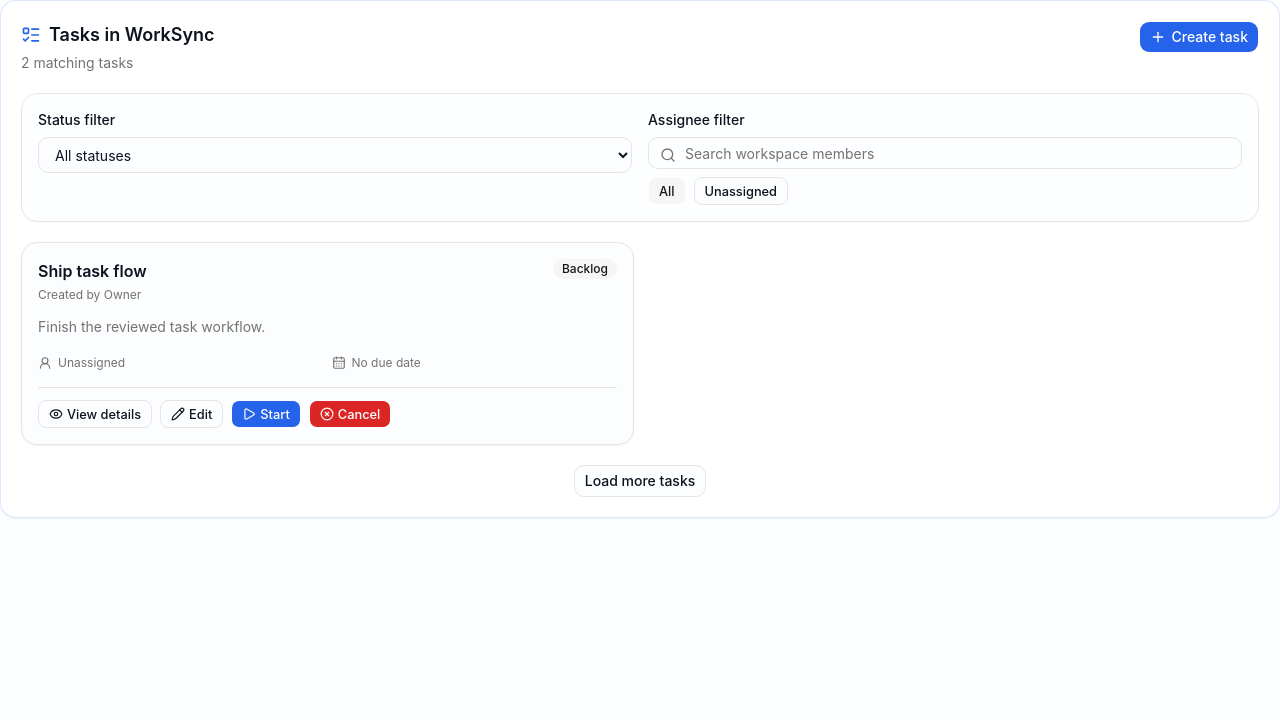
Test: TaskSection › clears the load-more pending state when a filter reload aborts it
This screenshot has width=1280, height=720.
Click the button "Load more tasks": (640, 481) [574,465,706,497]
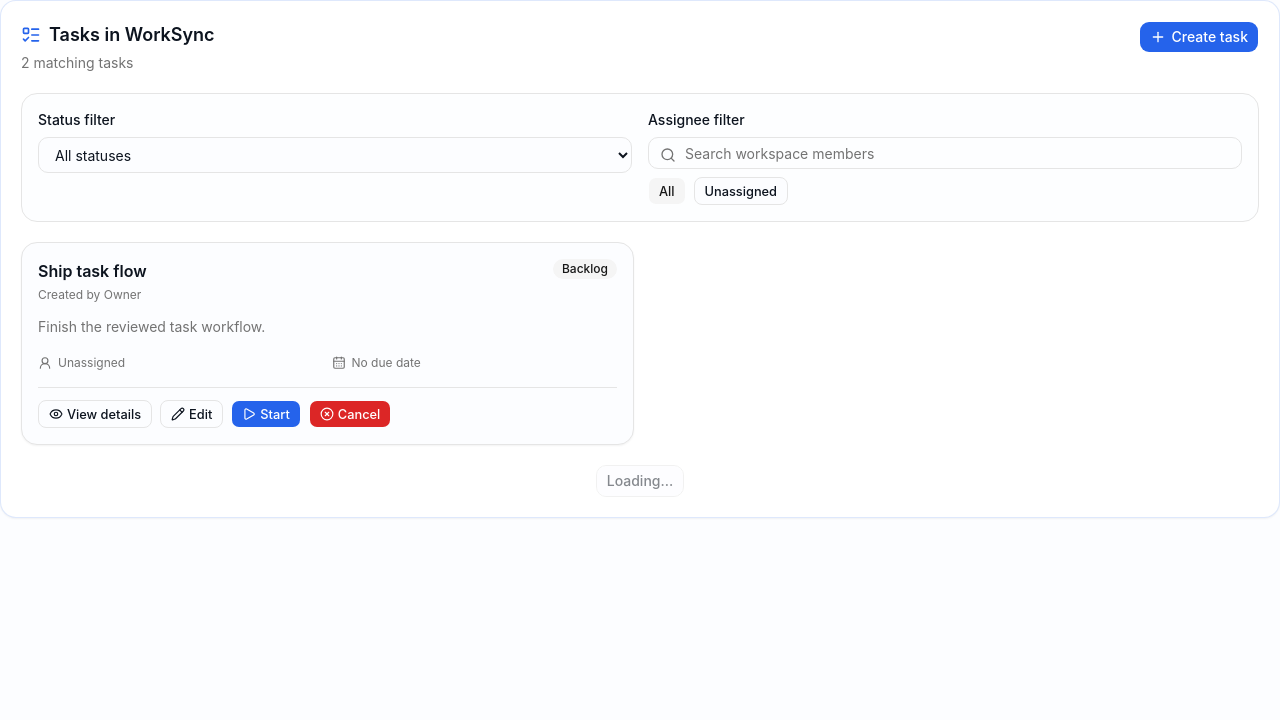
Check: the button "Loading..." is disabled, box [596,465,684,497]
Select "In progress" in the dropdown labelled "Status filter": (335, 155) [38,137,632,173]
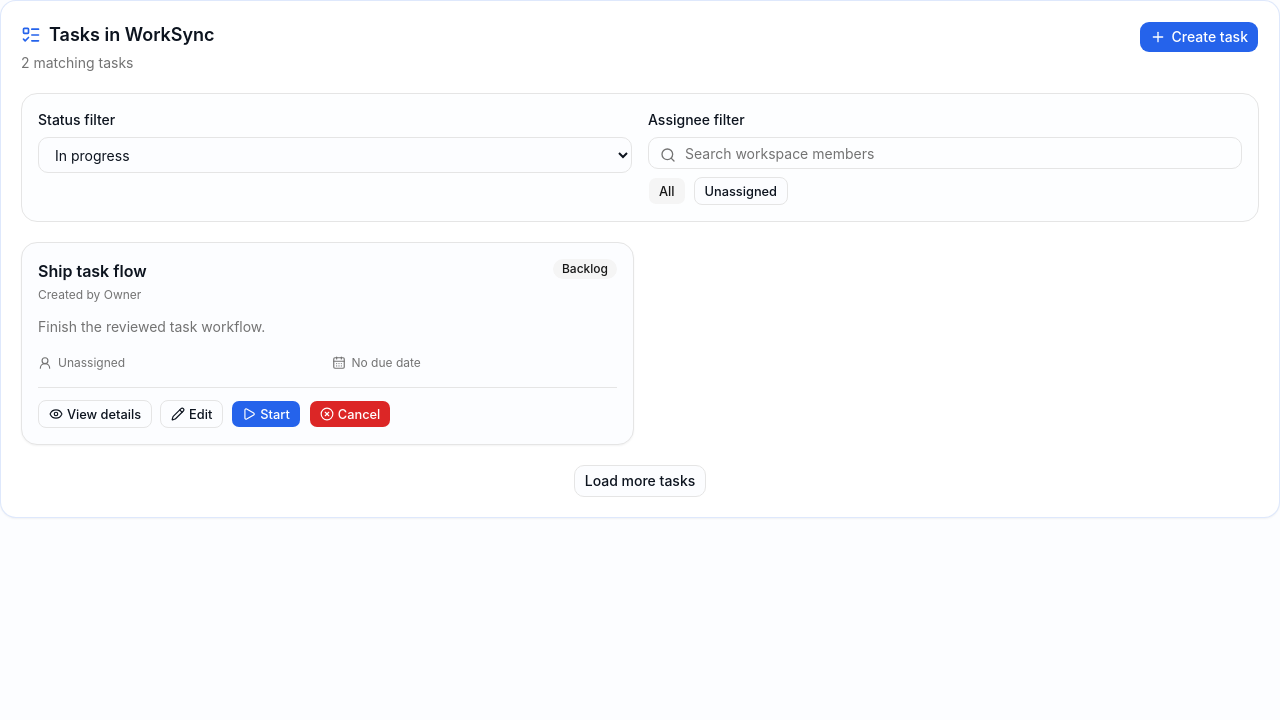
Check: the button "Load more tasks" is enabled, box [574,465,706,497]
